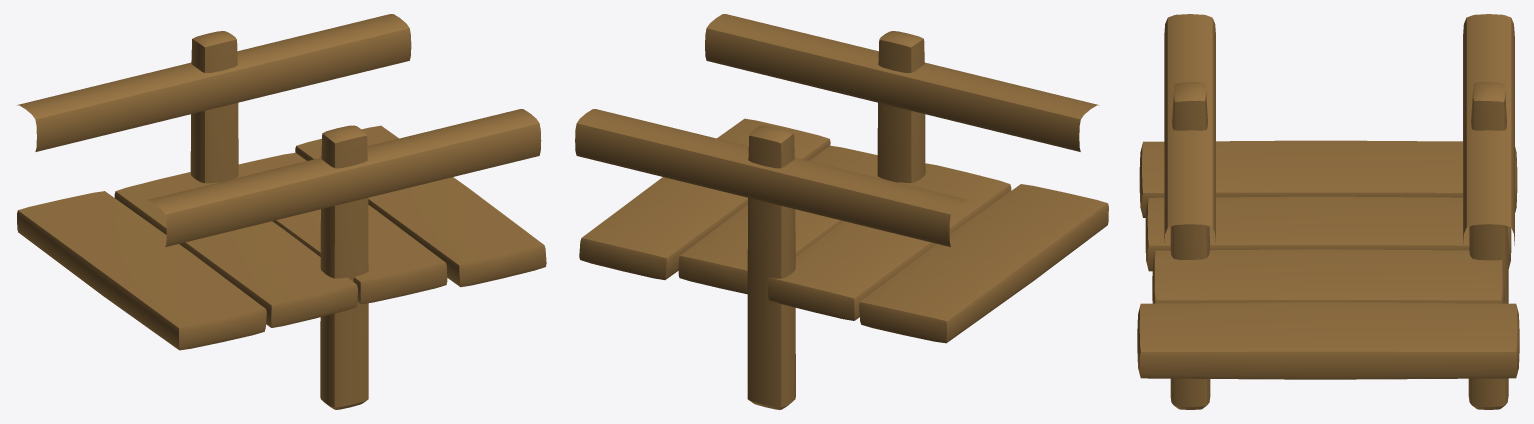
File: Bridge_Modular_Center.glb
3 renders of one model, left to right at view 1: azimuth 30°, elevation 25°; view 2: azimuth 150°, elevation 25°; view 3: azimuth 270°, elevation 25°, orthographic. The views are drawn at different scales.
Parts seen in each view (by area): view 1: Bridge_Modular_Center; view 2: Bridge_Modular_Center; view 3: Bridge_Modular_Center.
Part boxes in pixels (x1,y1,x2,y2): Bridge_Modular_Center: [17, 14, 546, 409]; Bridge_Modular_Center: [575, 14, 1108, 409]; Bridge_Modular_Center: [1137, 14, 1519, 409].
Bounding box in the file's own units: 3 × 2.09 × 2.31.
